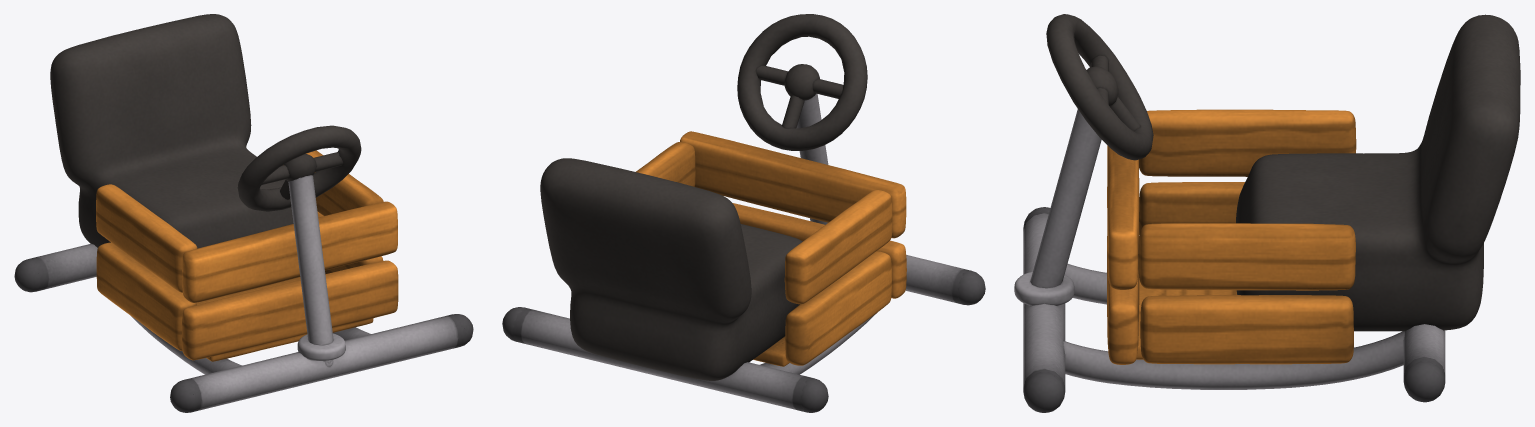
3 renders of one model, left to right at view 1: azimuth 30°, elevation 25°; view 2: azimuth 150°, elevation 25°; view 3: azimuth 270°, elevation 25°, orthographic. The views are drawn at different scales.
Parts seen in each view (by area): view 1: body, steering_wheel; view 2: body, steering_wheel; view 3: body, steering_wheel.
Part boxes in pixels (x1,y1,x2,y2): body: (14, 14, 473, 412); steering_wheel: (237, 125, 361, 211); body: (502, 93, 985, 412); steering_wheel: (737, 14, 867, 150); body: (1014, 14, 1520, 412); steering_wheel: (1046, 14, 1153, 160).
Size of the model in its own units: 0.9499 by 0.7767 by 1.09.
Materials: 1 (1 with a texture image).
